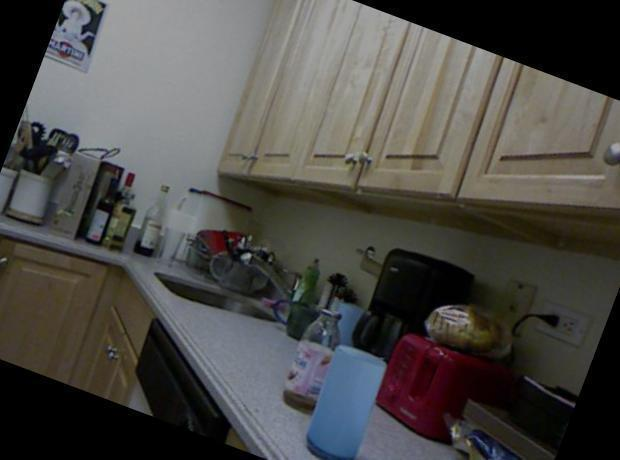Lavaplatos: (142, 205, 324, 352)
